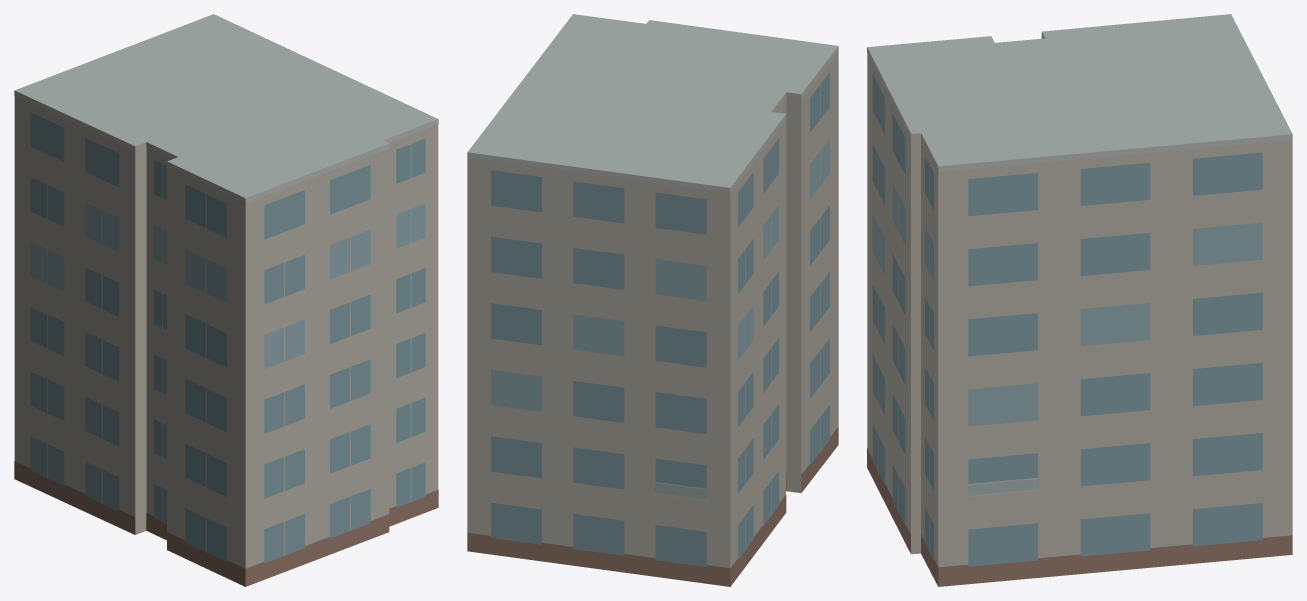
Rendered from survey-upis-32707535.glb.
3 renders of one model, left to right at view 1: azimuth 30°, elevation 25°; view 2: azimuth 150°, elevation 25°; view 3: azimuth 270°, elevation 25°, orthographic. The views are drawn at different scales.
Visible parts, largest first — view 1: survey-upis-32707535.tmp; view 2: survey-upis-32707535.tmp; view 3: survey-upis-32707535.tmp.
Boxes of the visible parts, x1=… form: survey-upis-32707535.tmp: x1=14, y1=14, x2=438, y2=586; survey-upis-32707535.tmp: x1=467, y1=14, x2=838, y2=586; survey-upis-32707535.tmp: x1=867, y1=14, x2=1292, y2=586.
Size of the model in its own units: 14.23 by 18.3 by 16.79.
